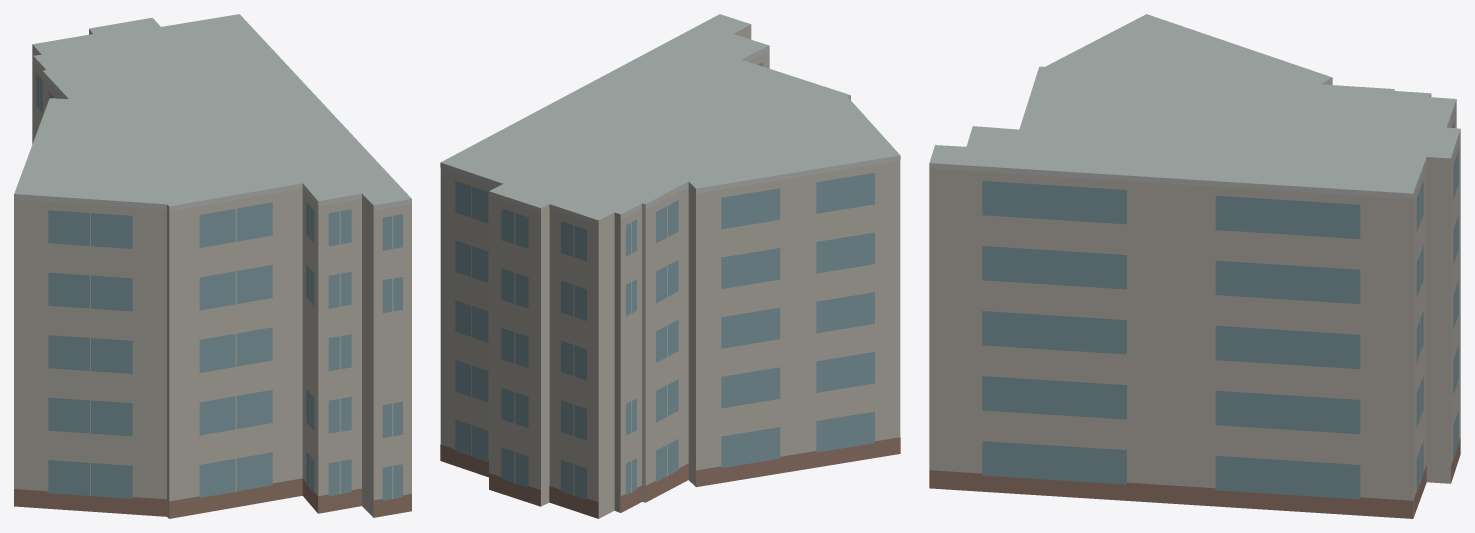
Rendered from survey-upis-32997678.glb.
3 views of the same model, side by side, from view 1: azimuth 30°, elevation 25°; view 2: azimuth 150°, elevation 25°; view 3: azimuth 270°, elevation 25° (orthographic). The views are drawn at different scales.
Parts seen in each view (by area): view 1: survey-upis-32997678.tmp; view 2: survey-upis-32997678.tmp; view 3: survey-upis-32997678.tmp.
Part boxes in pixels (x1=…): survey-upis-32997678.tmp: x1=14, y1=14, x2=411, y2=518; survey-upis-32997678.tmp: x1=440, y1=14, x2=900, y2=518; survey-upis-32997678.tmp: x1=929, y1=14, x2=1460, y2=518.
Bounding box in the file's own units: 17.06 × 14.4 × 21.33.
